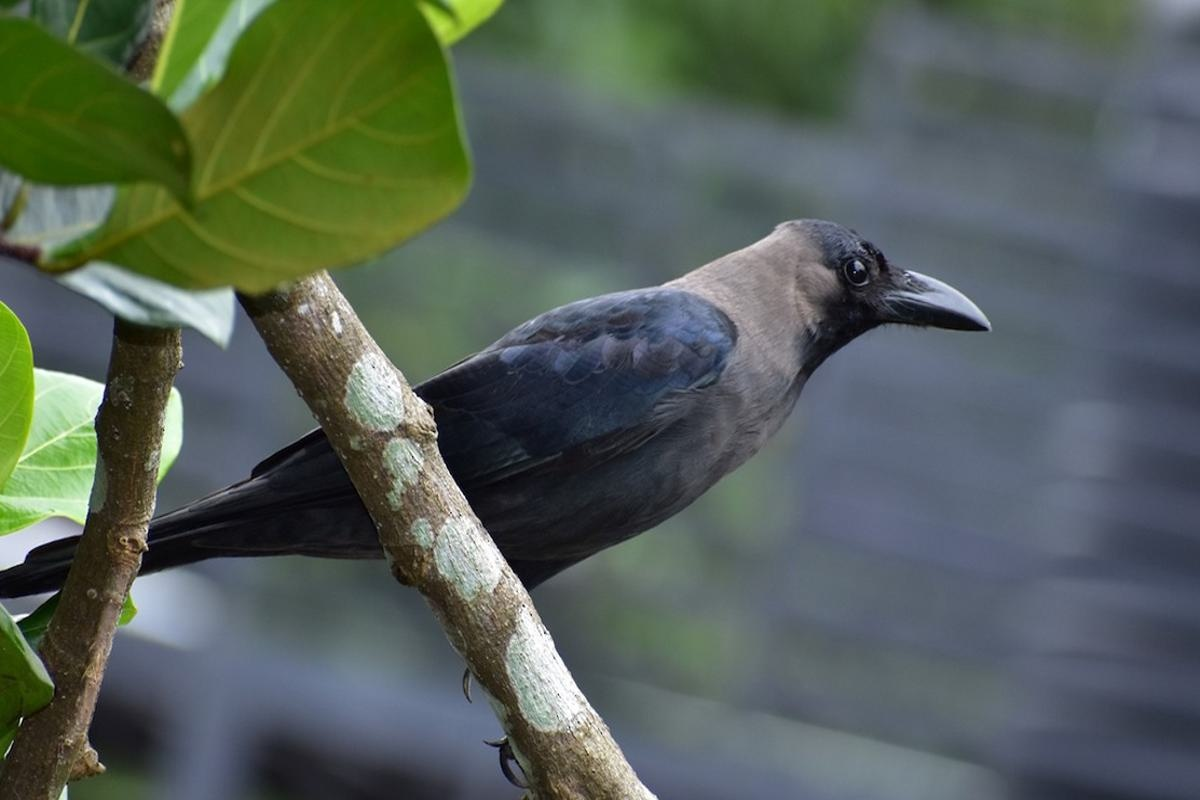crow: (1, 209, 1003, 621)
